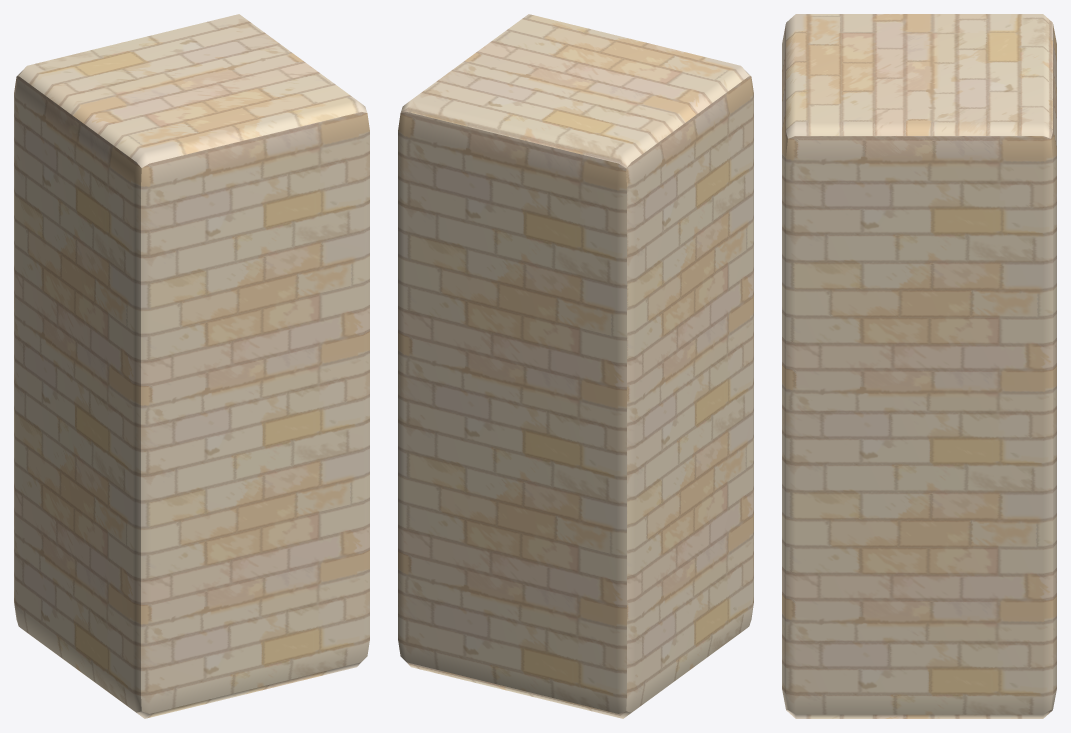
Rendered from B_rect.fbx.
3 views of the same model, side by side, from view 1: azimuth 30°, elevation 25°; view 2: azimuth 150°, elevation 25°; view 3: azimuth 270°, elevation 25° (orthographic). The views are drawn at different scales.
Parts seen in each view (by area): view 1: pCube7; view 2: pCube7; view 3: pCube7.
Boxes of the visible parts, left/top/right/bottom form: pCube7: left=14, top=14, right=369, bottom=718; pCube7: left=398, top=14, right=753, bottom=718; pCube7: left=782, top=14, right=1056, bottom=718.
Bounding box in the file's own units: 13.56 × 31.17 × 13.02.
